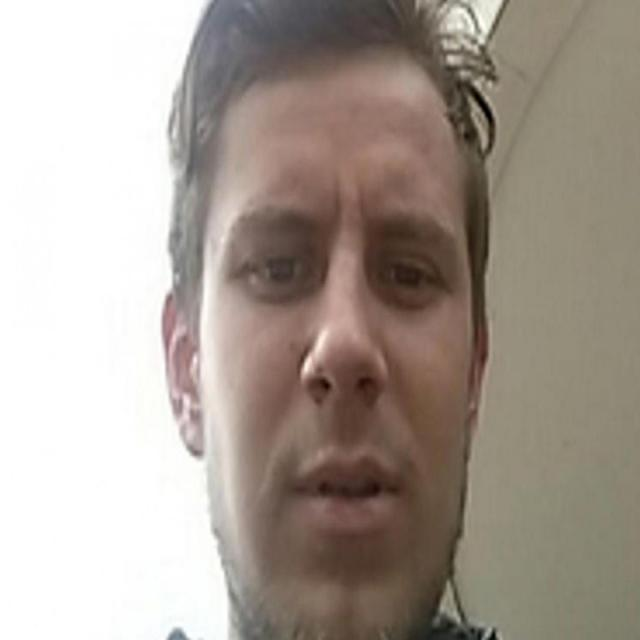earlobe: (181, 394, 206, 460)
eye: (374, 253, 445, 298), (243, 250, 317, 290)
nose: (300, 369, 388, 430)
wholeear: (160, 292, 207, 459)
